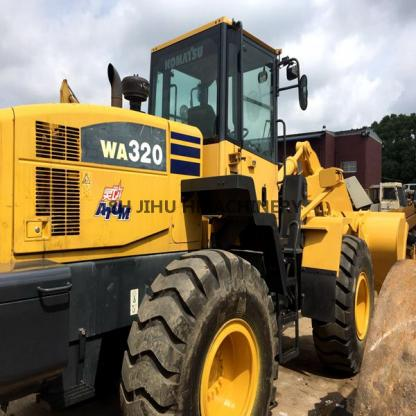bull_dozer/loader/grader: (3, 10, 415, 416)
